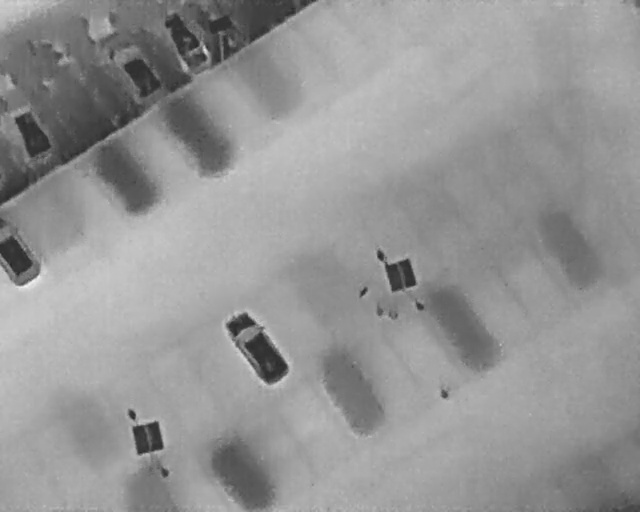Car: (214, 300, 298, 396), (104, 34, 171, 108), (154, 6, 218, 78), (2, 101, 65, 173), (0, 213, 44, 288)
